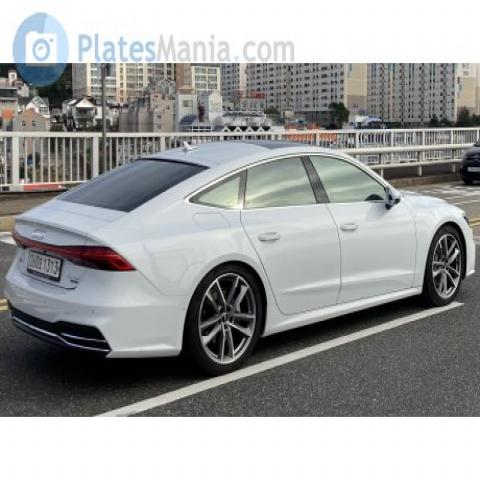LP: (17, 242, 74, 288)
